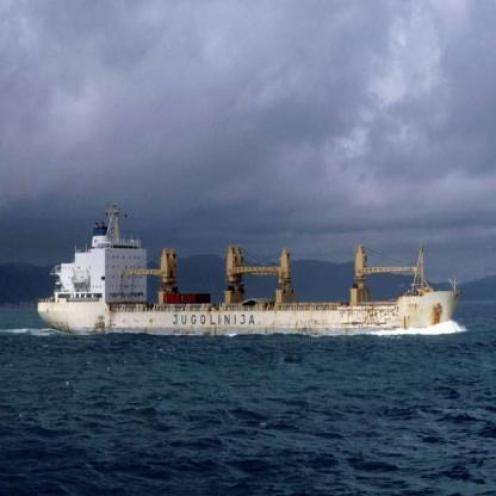Ship: (23, 206, 467, 335)
